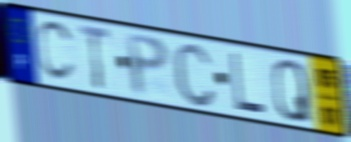C: (171, 39, 218, 109), (35, 19, 76, 84)
L: (228, 50, 267, 116)
P: (124, 31, 171, 99)
Q: (271, 57, 313, 125)
T: (77, 22, 113, 92)
